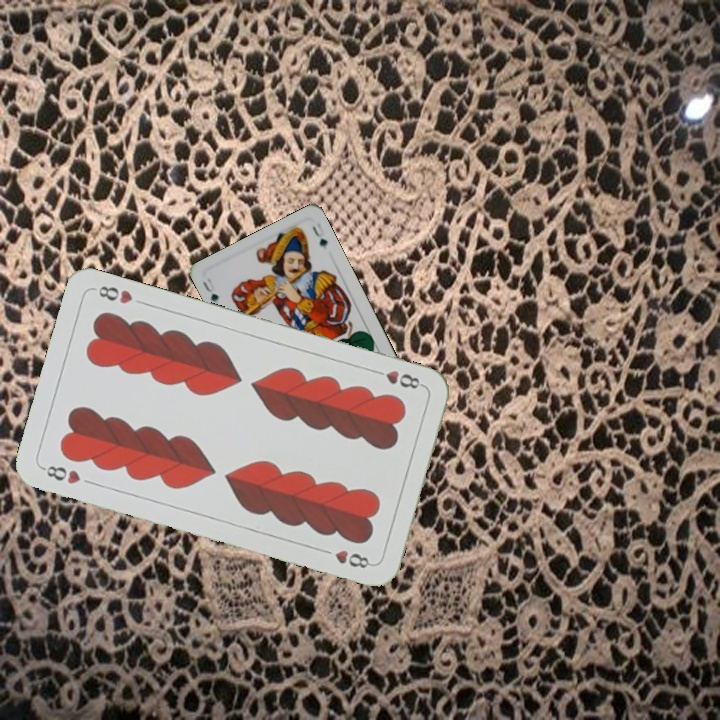GU: (198, 275, 221, 304)
H8: (368, 365, 426, 392), (38, 461, 83, 487)
